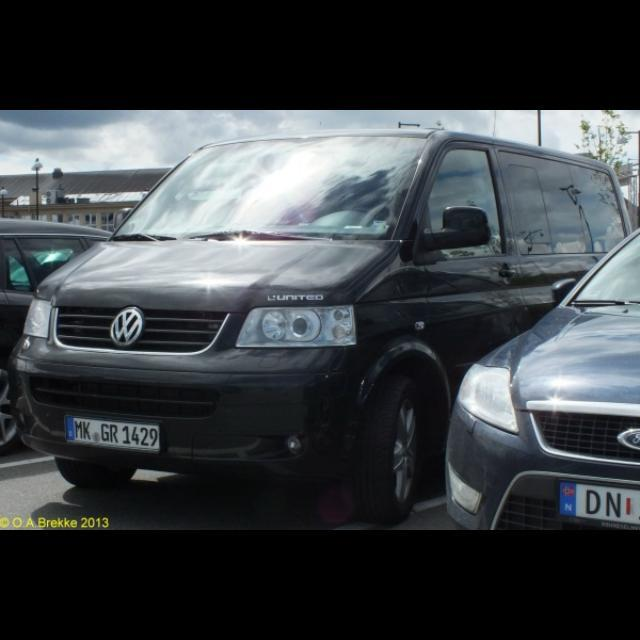license-plates: (64, 417, 159, 452)
